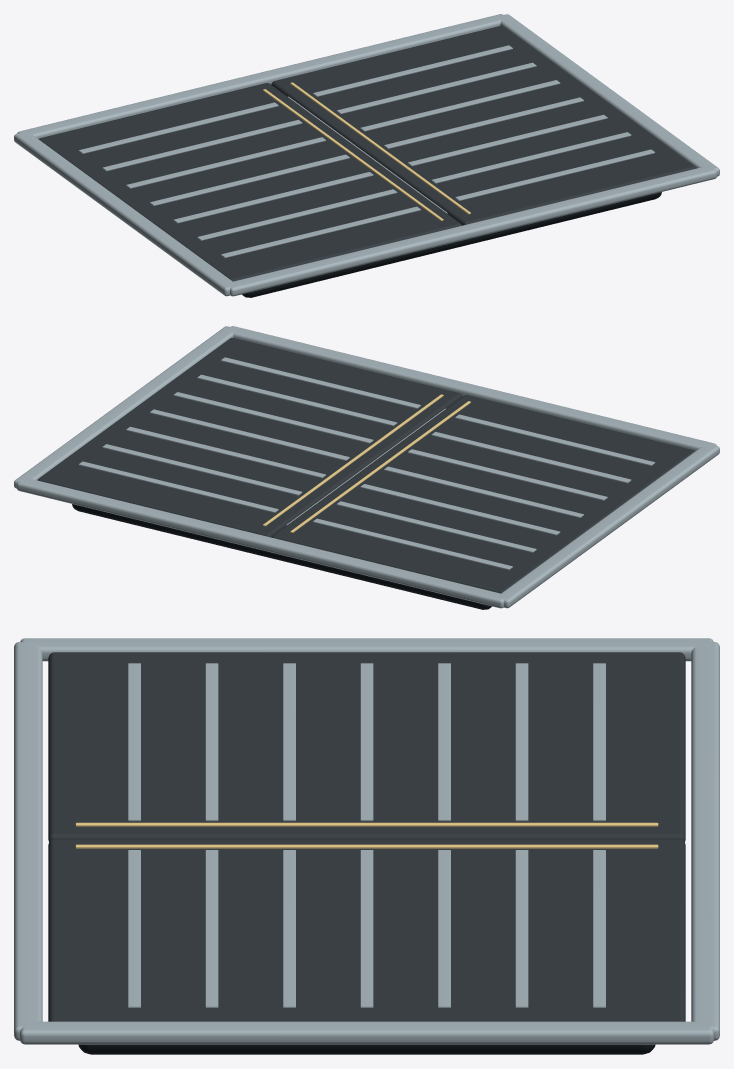
Rendered from lift-hatch.glb.
3 renders of one model, top to bottom at view 1: azimuth 30°, elevation 25°; view 2: azimuth 150°, elevation 25°; view 3: azimuth 270°, elevation 25°, orthographic. The views are drawn at different scales.
Parts seen in each view (by area): view 1: Hatch_Right_Geometry, Hatch_Left_Geometry, lift-hatch_Shell, Platform_Geometry; view 2: Hatch_Right_Geometry, Hatch_Left_Geometry, lift-hatch_Shell, Platform_Geometry; view 3: Hatch_Left_Geometry, Hatch_Right_Geometry, lift-hatch_Shell, Platform_Geometry.
Boxes of the visible parts, bbox=[...] form: Hatch_Right_Geometry: bbox=[271, 26, 696, 225]; Hatch_Left_Geometry: bbox=[38, 83, 461, 281]; lift-hatch_Shell: bbox=[14, 14, 719, 296]; Platform_Geometry: bbox=[242, 96, 661, 297]; Hatch_Right_Geometry: bbox=[37, 338, 462, 537]; Hatch_Left_Geometry: bbox=[272, 395, 695, 593]; lift-hatch_Shell: bbox=[14, 326, 719, 608]; Platform_Geometry: bbox=[72, 408, 491, 609]; Hatch_Left_Geometry: bbox=[48, 652, 685, 841]; Hatch_Right_Geometry: bbox=[48, 839, 685, 1021]; lift-hatch_Shell: bbox=[14, 638, 719, 1044]; Platform_Geometry: bbox=[78, 1044, 655, 1054].
Bounding box in the file's own units: 3.26 × 0.2225 × 2.46.
